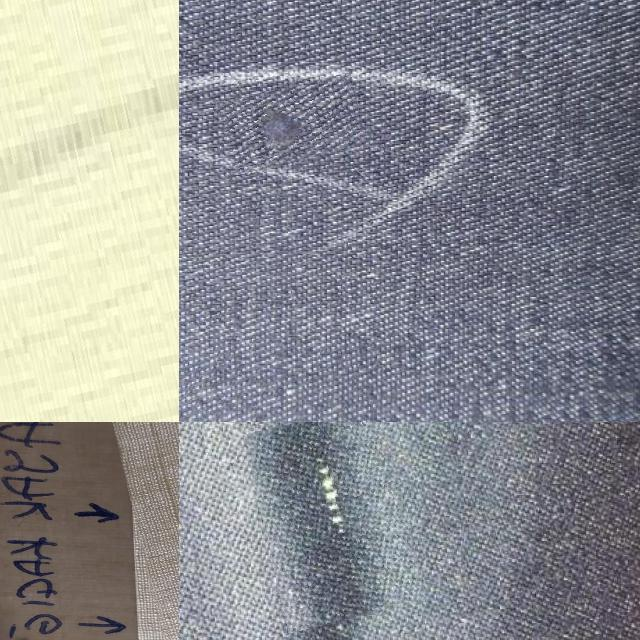stains: (254, 422, 416, 625), (111, 422, 179, 640), (220, 78, 364, 167)
